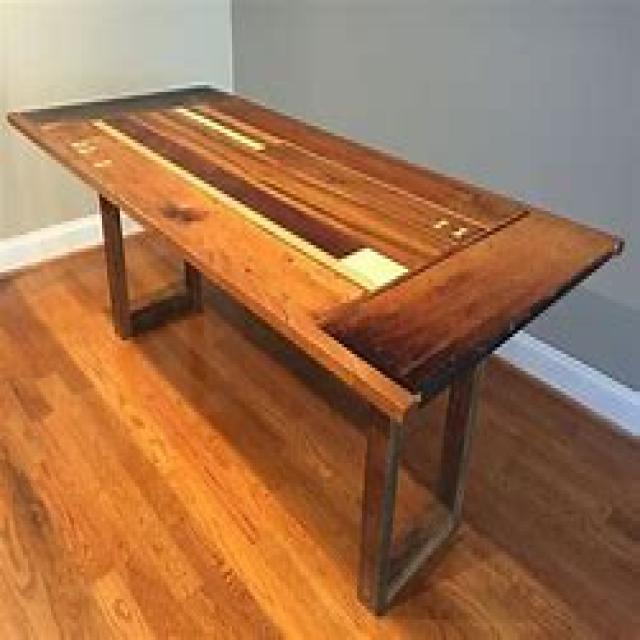table: (5, 78, 625, 613)
